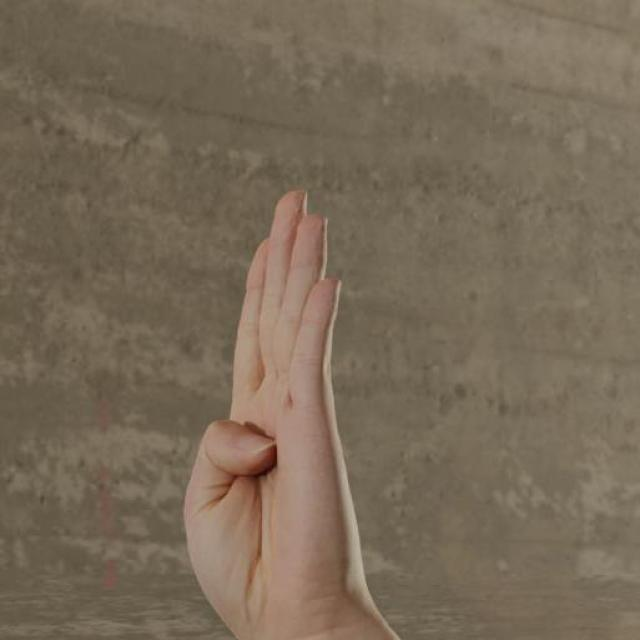B: (174, 183, 380, 632)
